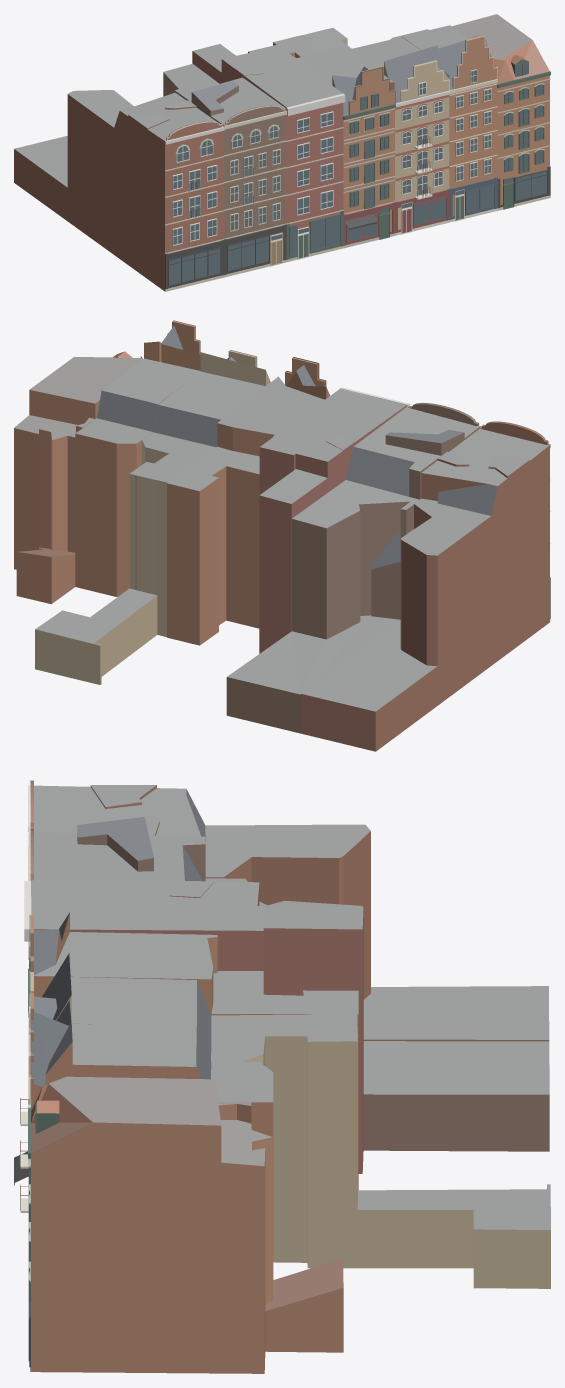
Rendered from chunk-bilder-081118-x7.glb.
The picture shows the model from 3 angles, top to bottom: view 1: azimuth 30°, elevation 25°; view 2: azimuth 150°, elevation 25°; view 3: azimuth 270°, elevation 25°; orthographic projection. The views are drawn at different scales.
Parts seen in each view (by area): view 1: bilder-081118-x7; view 2: bilder-081118-x7; view 3: bilder-081118-x7.
Boxes of the visible parts, x1=… form: bilder-081118-x7: x1=14, y1=14, x2=550, y2=291; bilder-081118-x7: x1=14, y1=320, x2=550, y2=751; bilder-081118-x7: x1=14, y1=780, x2=550, y2=1373.
Size of the model in its own units: 45.35 by 19.84 by 31.29.
